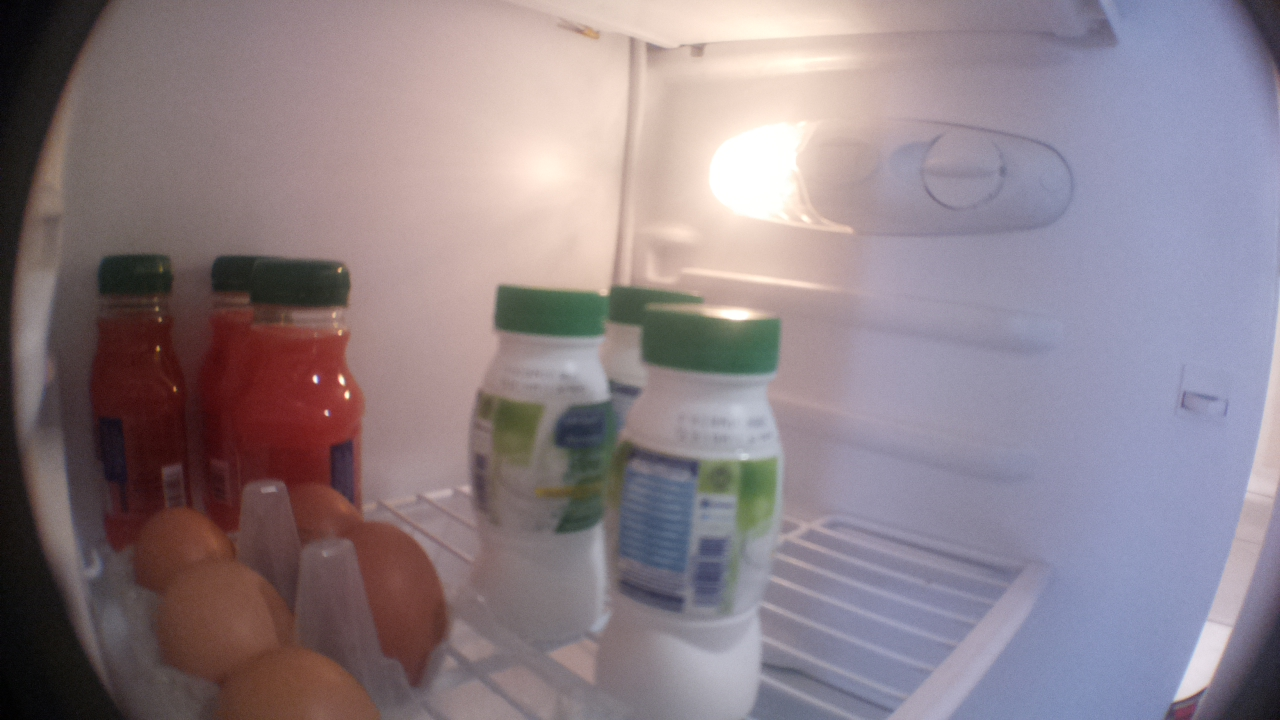egg: (318, 513, 448, 693), (150, 553, 290, 680), (215, 644, 385, 720), (264, 475, 364, 554)
juice: (83, 246, 187, 562), (242, 245, 372, 491), (198, 248, 251, 543)
laban: (591, 298, 786, 720), (461, 283, 621, 658), (599, 280, 653, 444)
